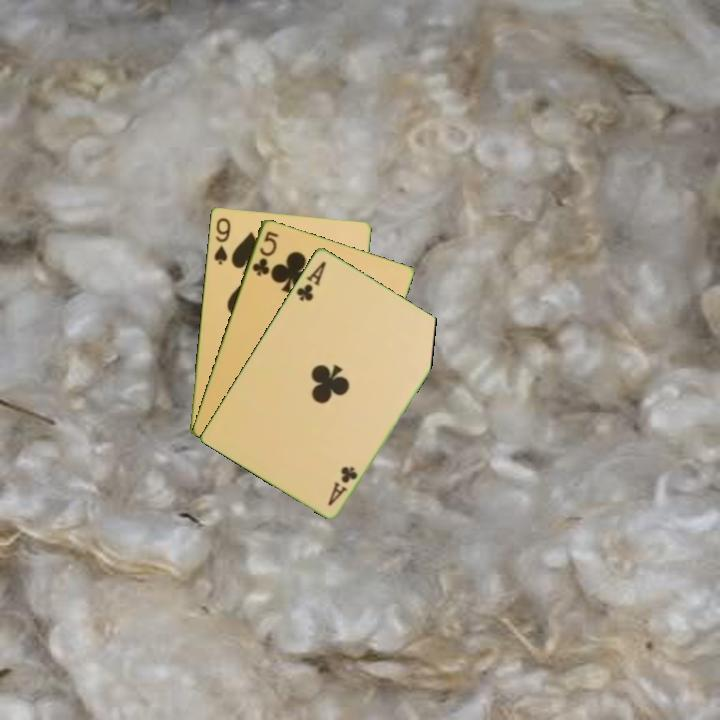5c: (248, 227, 281, 279)
9s: (210, 214, 233, 267)
Ac: (324, 462, 361, 508), (293, 257, 329, 304)
